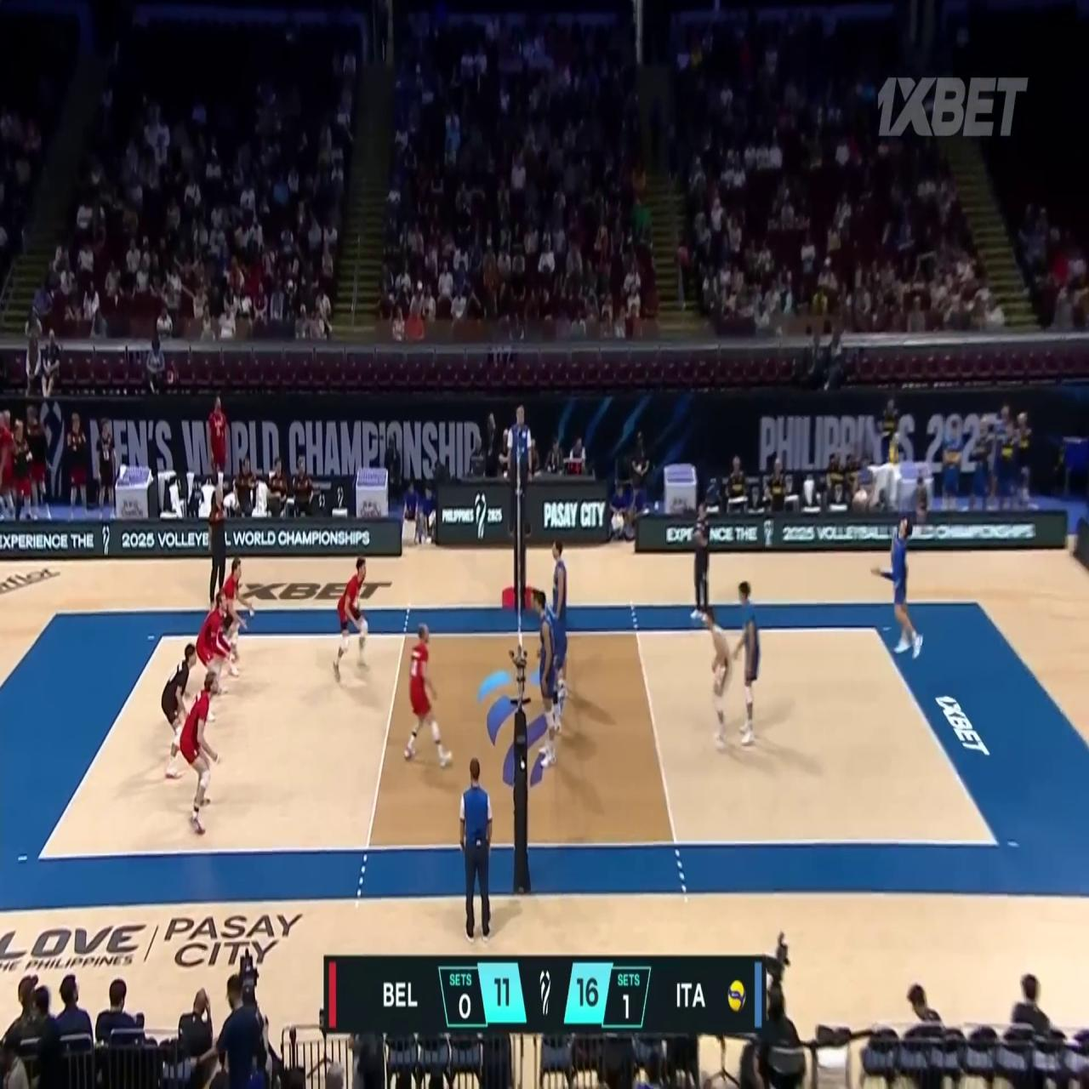ball: (889, 444, 900, 464)
